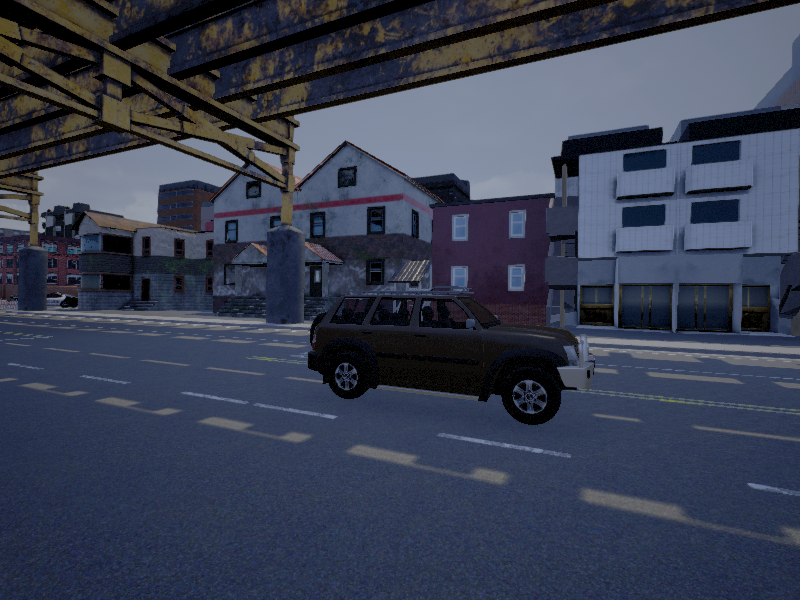benign: (307, 294, 598, 426)
